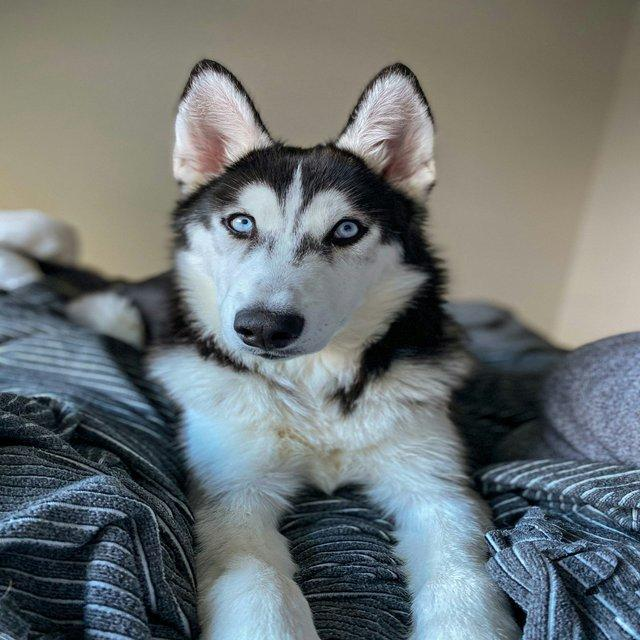husky: (35, 56, 526, 638)
